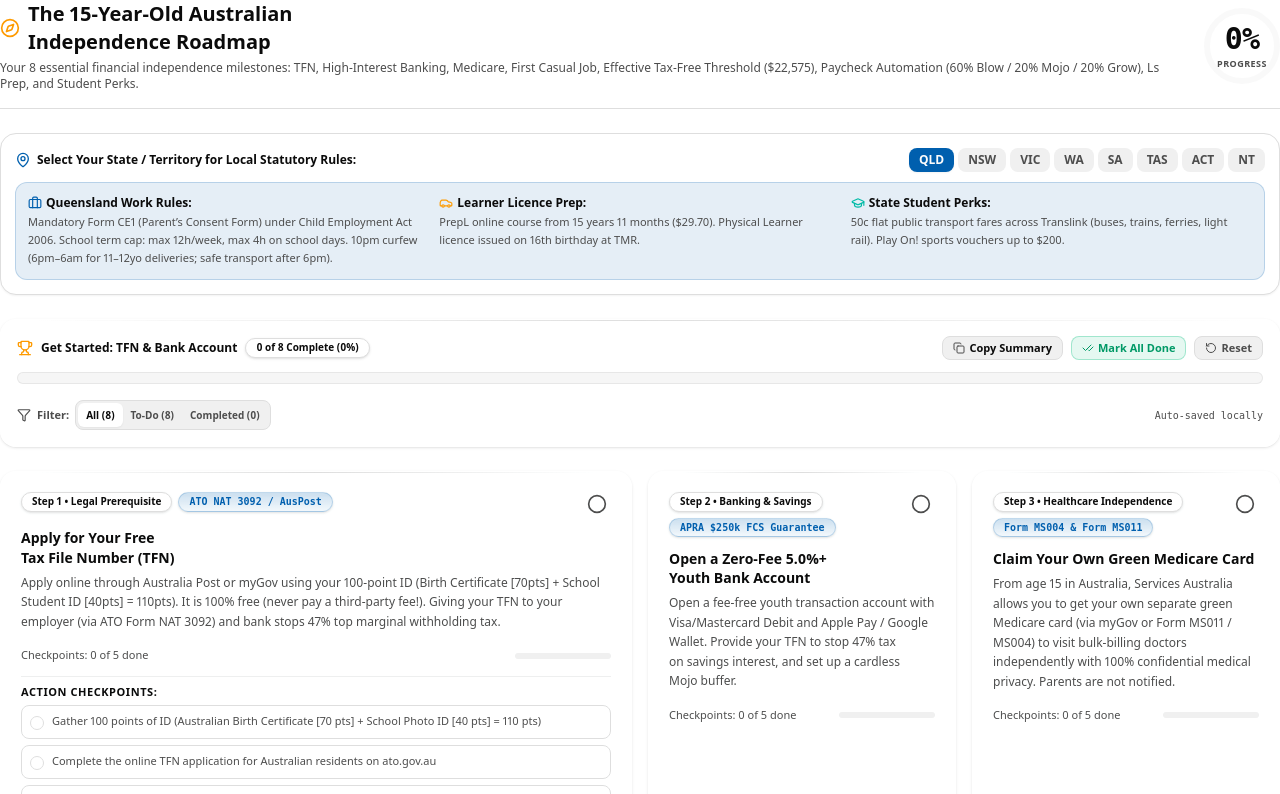
Test: FifteenYearOldRoadmap Component › marks all milestones complete with Mark All Done
Click the button "Mark All Done" at (1129, 348), box [1071, 336, 1186, 360]
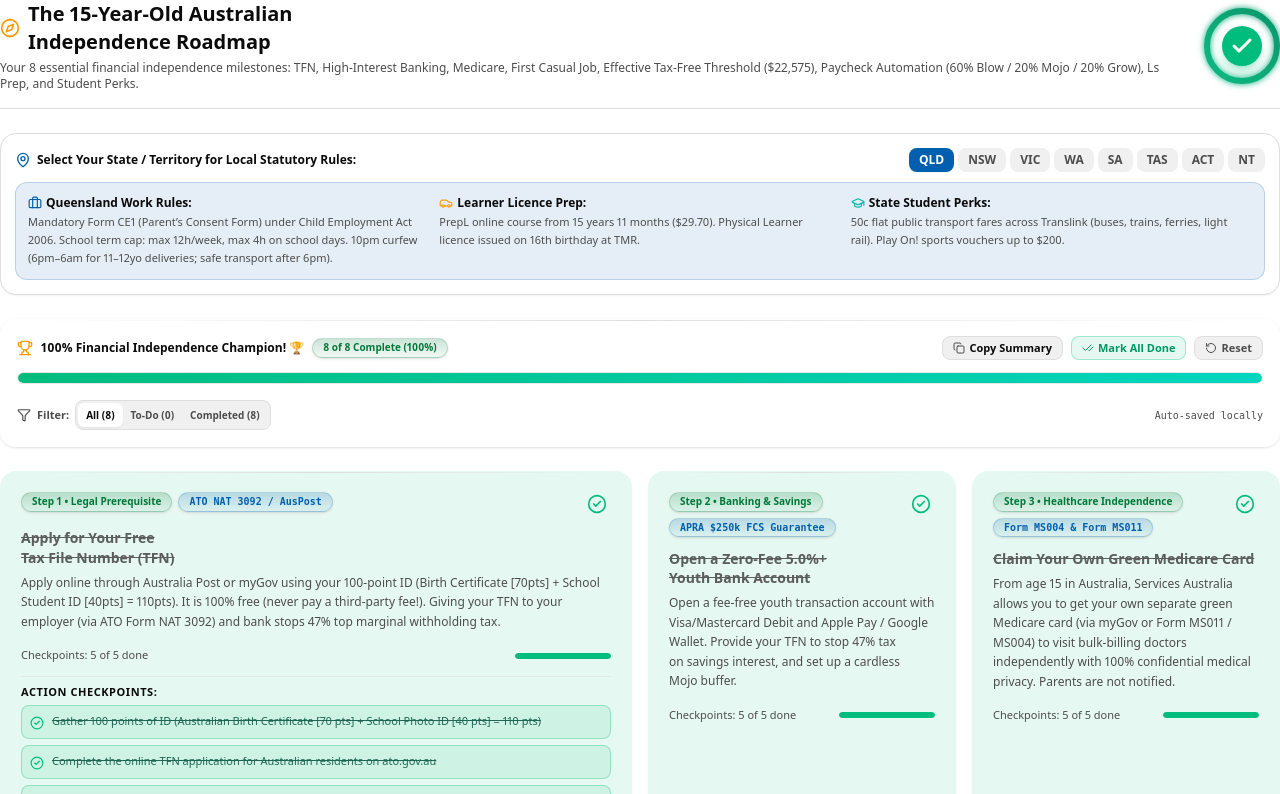
Check: the text "8 of 8 Complete (100%)" is shown, box [312, 338, 448, 358]
Check: the text "100% Financial Independence Champion! 🏆" is shown, box [41, 340, 304, 356]
